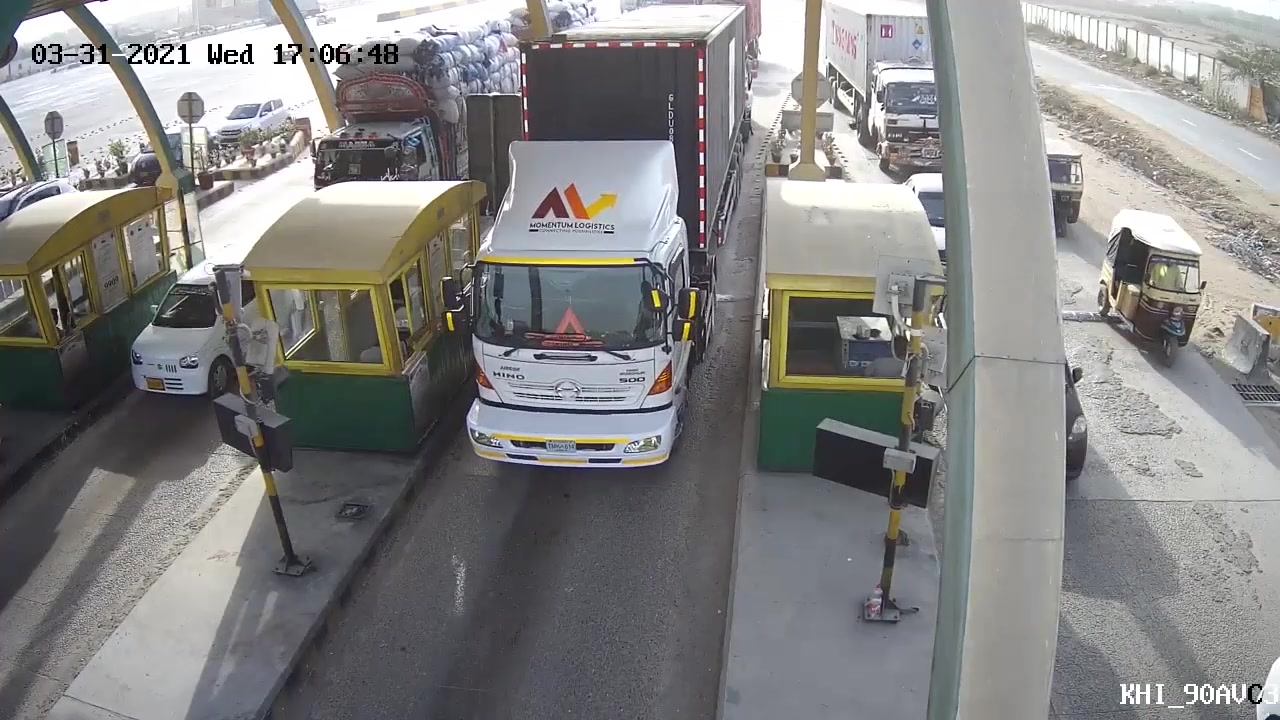F6: (442, 7, 744, 486)
